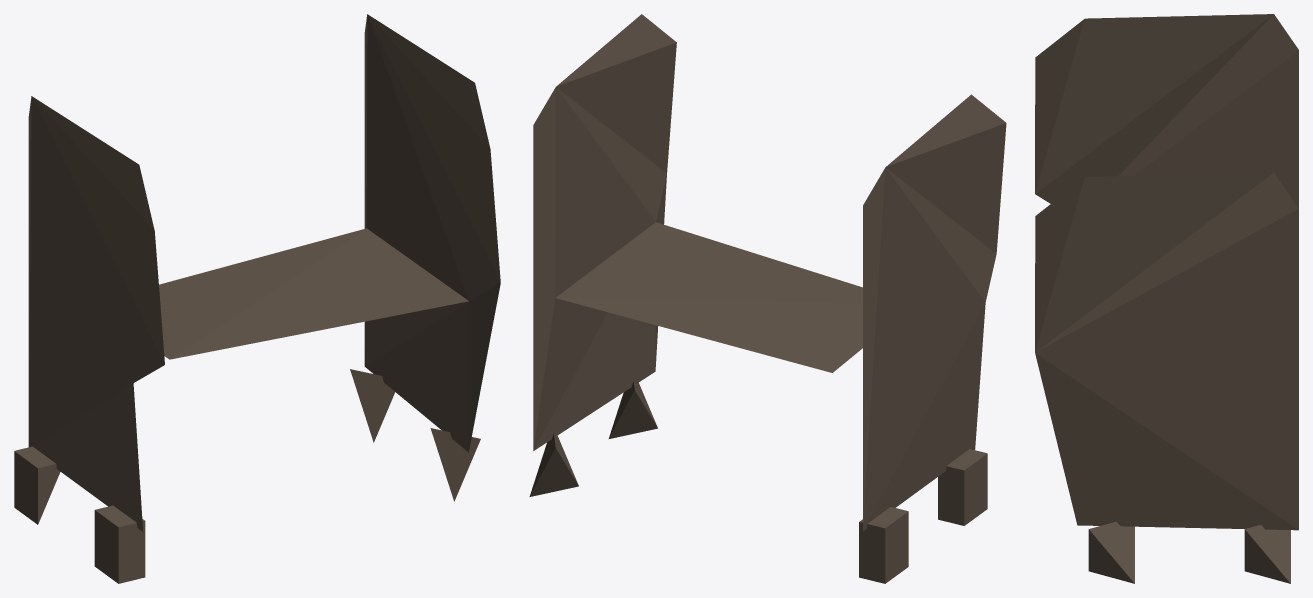
Rendered from range-booth.lod2.glb.
3 renders of one model, left to right at view 1: azimuth 30°, elevation 25°; view 2: azimuth 150°, elevation 25°; view 3: azimuth 270°, elevation 25°, orthographic. The views are drawn at different scales.
Visible parts, largest first — view 1: Object_20; view 2: Object_20; view 3: Object_20.
Boxes of the visible parts, <box> form: Object_20: <box>14,14,500,583</box>; Object_20: <box>529,14,1006,583</box>; Object_20: <box>1035,14,1298,583</box>.
Size of the model in its own units: 1.05 by 1.15 by 0.6826.
